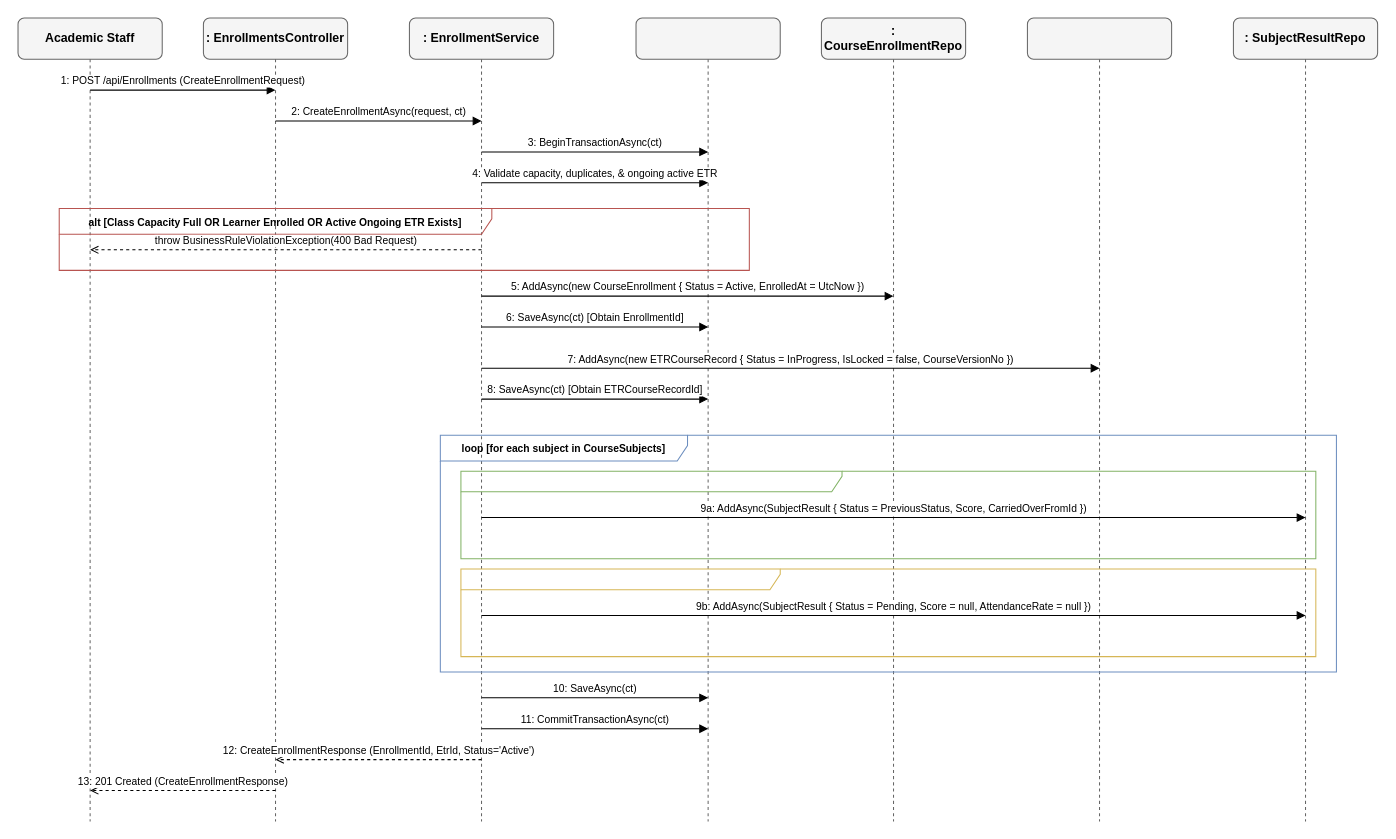
The diagram is 1396 pixels wide and 839 high, and some of its shapes have lost their labels. Here are the shapes that lost their labels. From the top down, the box of each, then its label:
(635, 17, 780, 821): : IUnitOfWork
(1026, 17, 1172, 821): : ETRCourseRecordRepo
(460, 470, 1316, 559): alt [Subject Passed/Exempted in Previous ETR (Retake Policy)]
(460, 568, 1316, 657): [else: First Attempt OR Previous Subject Not Passed]
